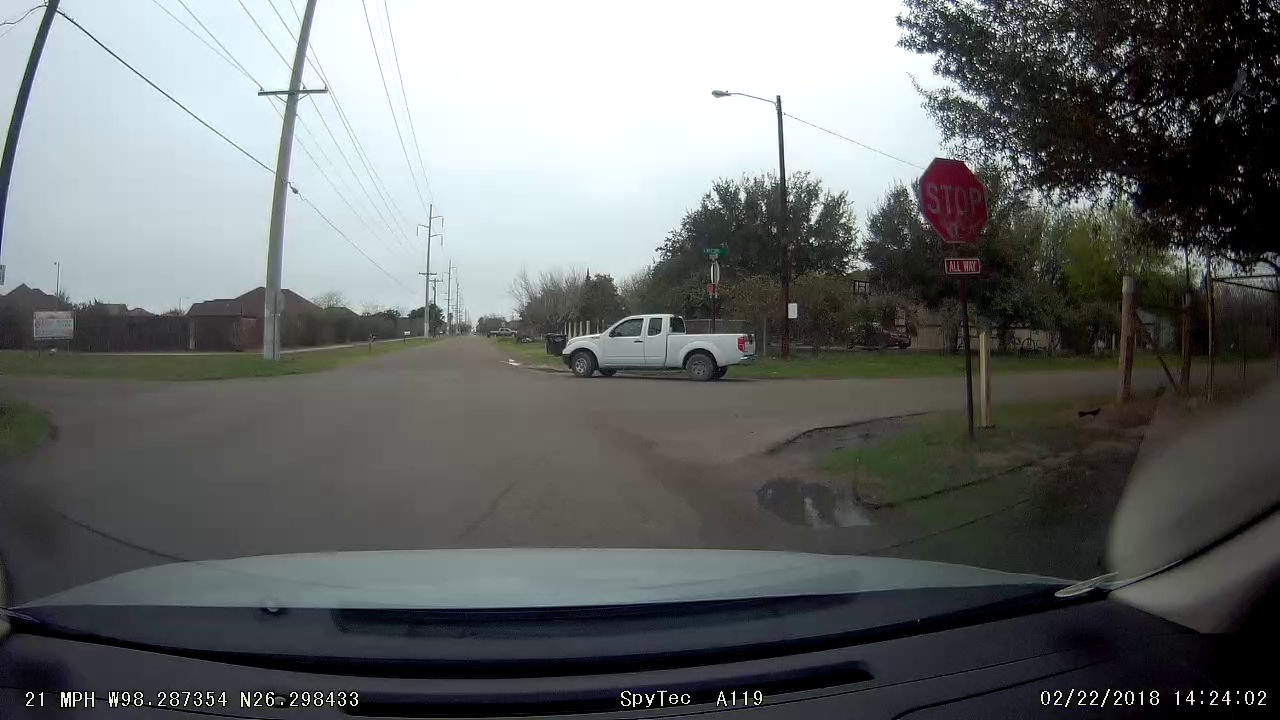pothole: (725, 431, 844, 538)
